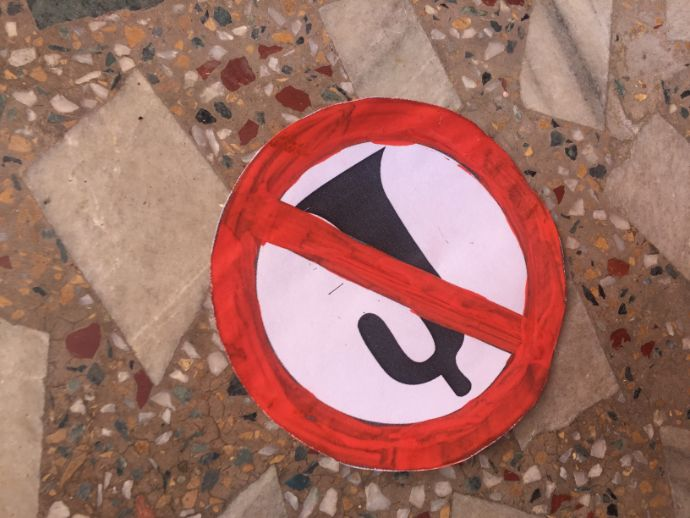no-horn: (213, 97, 561, 470)
